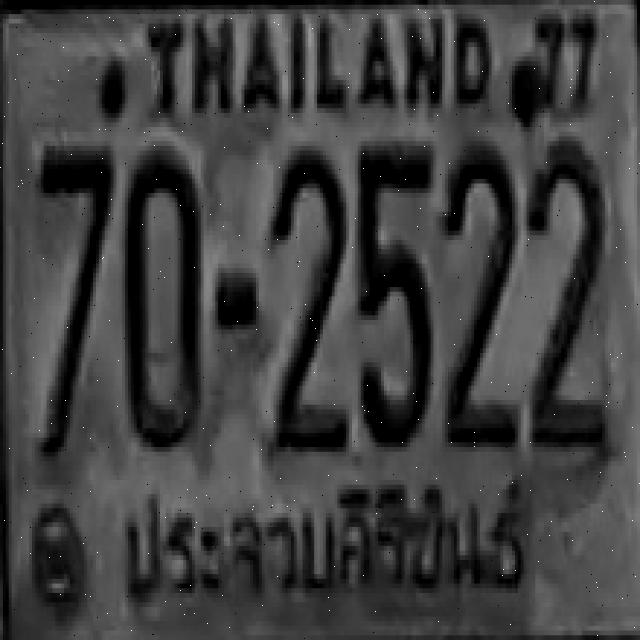0: (122, 148, 200, 444)
2: (526, 141, 610, 457), (524, 142, 606, 438), (266, 146, 344, 456), (441, 141, 513, 447)
5: (354, 143, 429, 444)
7: (36, 144, 112, 454)
PrachuapKhiriKhan: (112, 471, 541, 620)
